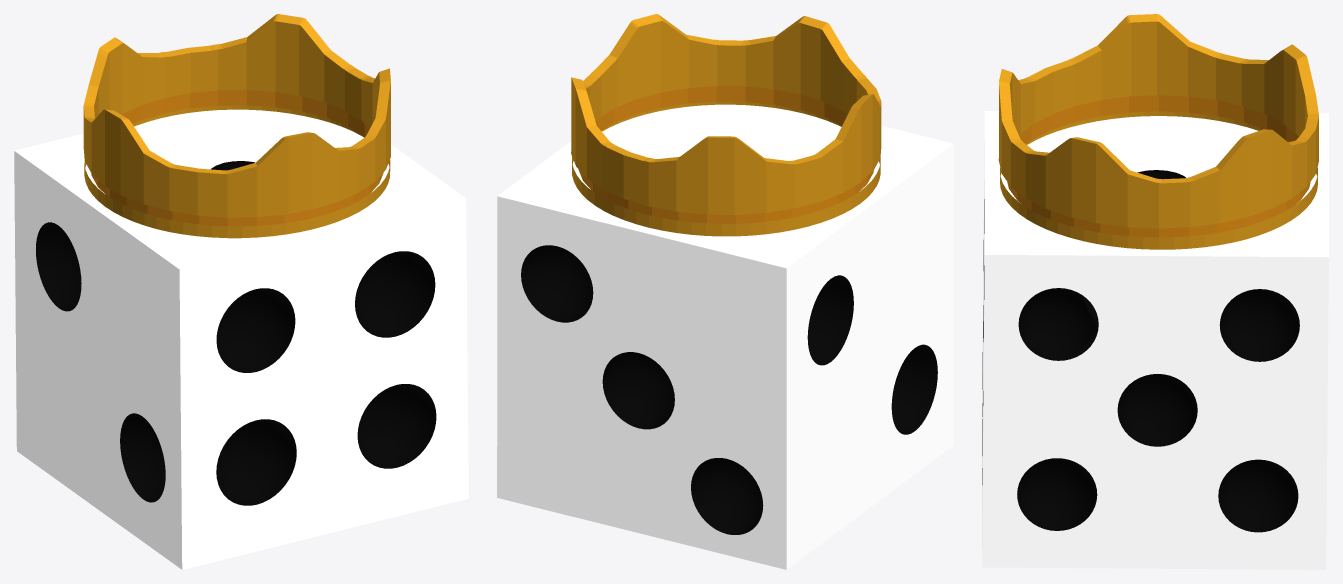
Rendered from KingDice.glb.
3 renders of one model, left to right at view 1: azimuth 30°, elevation 25°; view 2: azimuth 150°, elevation 25°; view 3: azimuth 270°, elevation 25°, orthographic. The views are drawn at different scales.
Parts seen in each view (by area): view 1: Dado:pCube8, Cylinder.002, Cylinder.003, Cylinder.001; view 2: Dado:pCube8, Cylinder.002, Cylinder.003, Cylinder.001; view 3: Dado:pCube8, Cylinder.002, Cylinder.003, Cylinder.001.
Boxes of the visible parts, x1,y1,x2,y2 form: Dado:pCube8: (14,109,468,569); Cylinder.002: (83,14,390,217); Cylinder.003: (91,90,383,226); Cylinder.001: (84,105,390,238); Dado:pCube8: (497,104,953,569); Cylinder.002: (571,14,881,214); Cylinder.003: (578,86,873,223); Cylinder.001: (572,101,880,236); Dado:pCube8: (982,111,1328,569); Cylinder.002: (998,14,1318,228); Cylinder.003: (1007,95,1310,237); Cylinder.001: (1000,111,1317,249).
Bounding box in the file's own units: 96.04 × 127 × 96.33.
